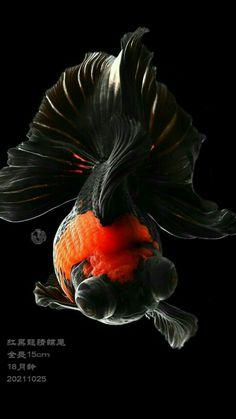goldfish: (9, 49, 232, 349)
